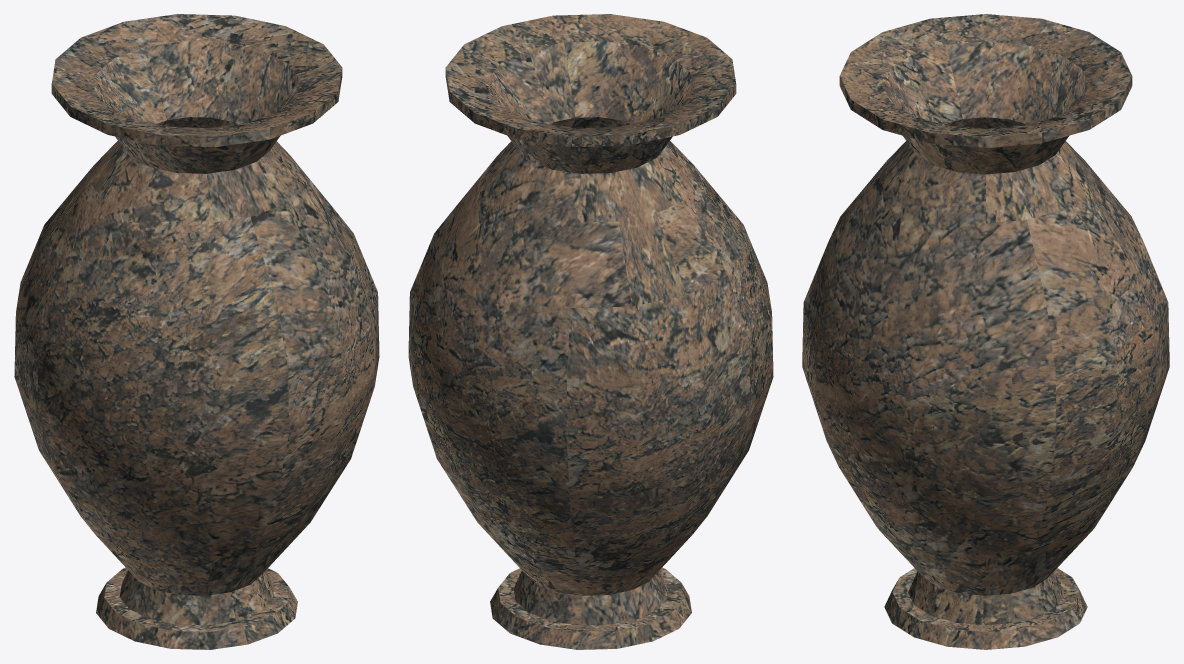
File: Vessel02.fbx
3 renders of one model, left to right at view 1: azimuth 30°, elevation 25°; view 2: azimuth 150°, elevation 25°; view 3: azimuth 270°, elevation 25°, orthographic.
Parts seen in each view (by area): view 1: Vessel02; view 2: Vessel02; view 3: Vessel02.
Part boxes in pixels (x1,y1,x2,y2): Vessel02: (14,14,379,649); Vessel02: (408,14,773,649); Vessel02: (802,14,1169,649).
Bounding box in the file's own units: 20.43 × 32.57 × 20.43.
